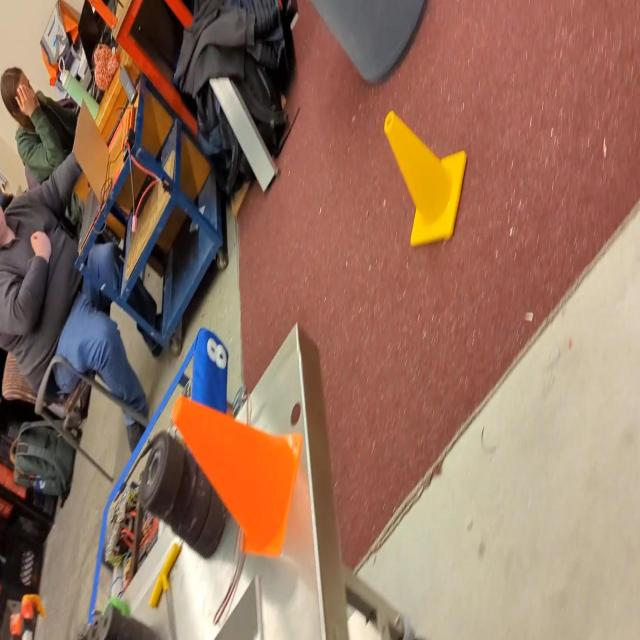frc_cone: (385, 110, 467, 249)
